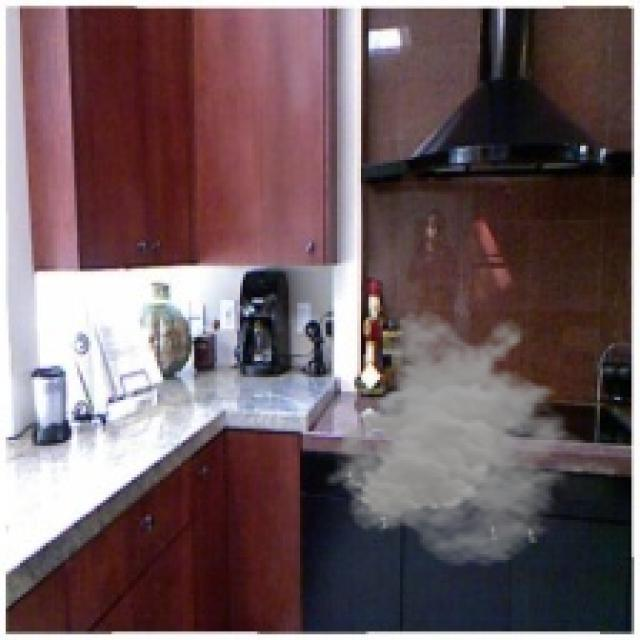Smoke: (323, 308, 594, 568)
